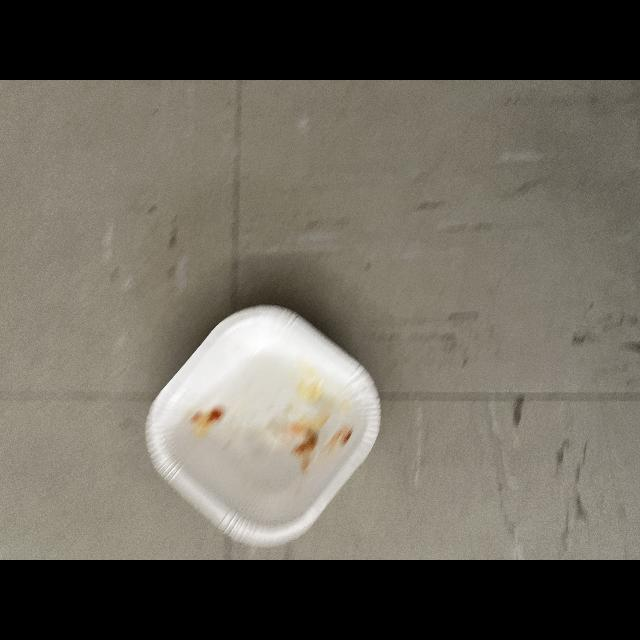cardboard_bowl: (140, 302, 390, 548)
